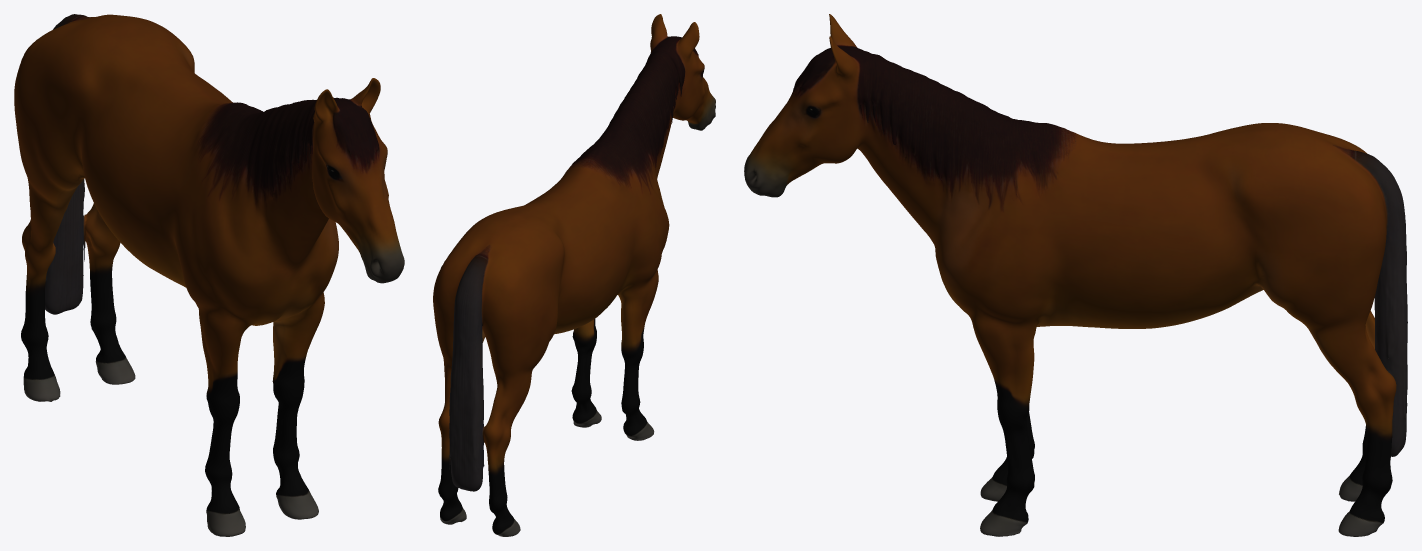
Rendered from Horse.glb.
3 views of the same model, side by side, from view 1: azimuth 30°, elevation 25°; view 2: azimuth 150°, elevation 25°; view 3: azimuth 270°, elevation 25° (orthographic). The views are drawn at different scales.
Visible parts, largest first — view 1: model; view 2: model; view 3: model.
Boxes of the visible parts, x1,y1,x2,y2 form: model: (14,14,404,536); model: (433,14,715,536); model: (744,14,1407,536).
Size of the model in its own units: 0.4717 by 1.54 by 1.9.
Materials: 1 (1 with a texture image).
